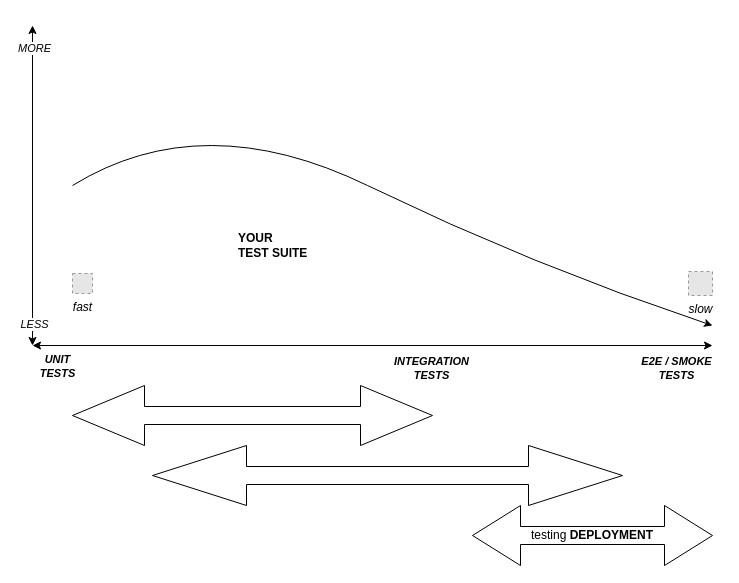
Some shapes in this 739 by 583 pixel diagram are drawn without their labels. Grey dashed boxes stand in for pictures. The shapes that lost their labels are listed below. From the top down, each one's box as (x1, y1, x2, y2) in pixels, then its label:
(72, 384, 432, 446): testing CODE SANITY
(152, 444, 622, 506): testing BUSINESS COMPLIANCE
